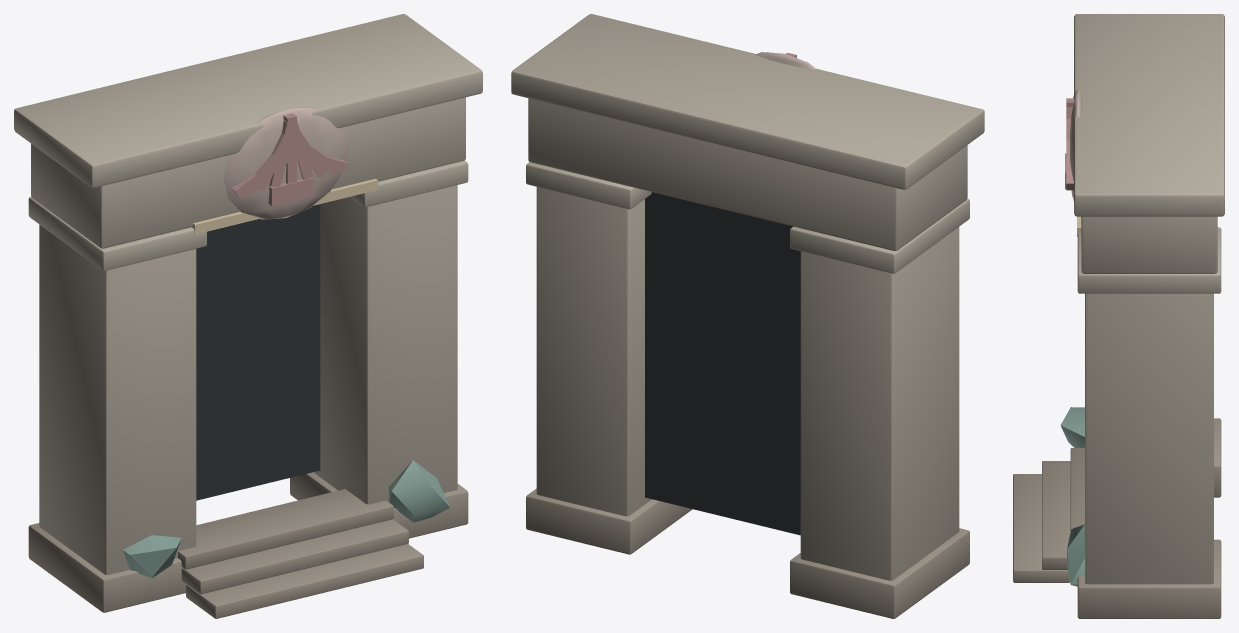
File: dk_gate.gltf
The picture shows the model from 3 angles, left to right: view 1: azimuth 30°, elevation 25°; view 2: azimuth 150°, elevation 25°; view 3: azimuth 270°, elevation 25°; orthographic projection. The views are drawn at different scales.
Visible parts, largest first — view 1: Body; view 2: Body; view 3: Body.
Boxes of the visible parts, x1,y1,x2,y2 form: Body: (14,14,482,618); Body: (511,14,984,618); Body: (1013,14,1224,618).
Bounding box in the file's own units: 6 × 6.74 × 2.95.
